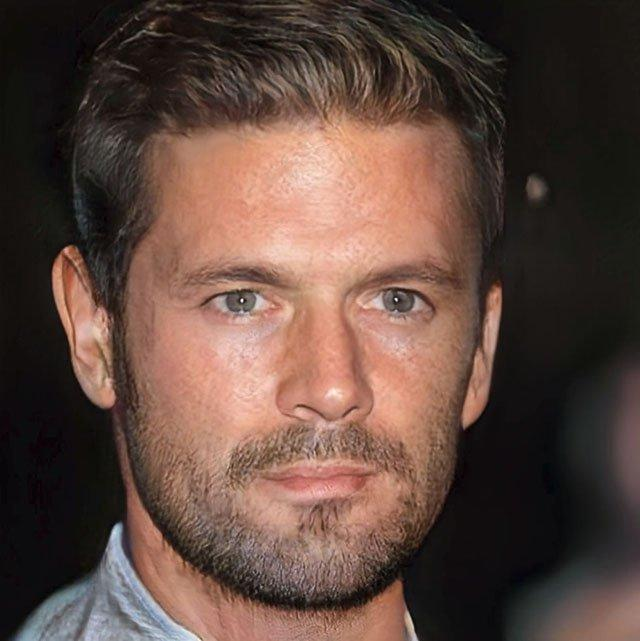Sober: (151, 155, 467, 523)
